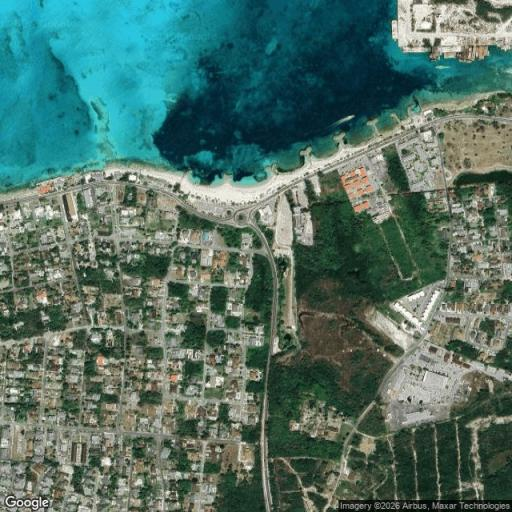ship: (328, 115, 354, 128), (392, 20, 398, 40), (428, 53, 441, 61), (478, 46, 484, 61), (463, 46, 469, 60), (460, 59, 473, 64), (436, 65, 450, 69), (469, 45, 472, 61), (476, 46, 479, 60)
